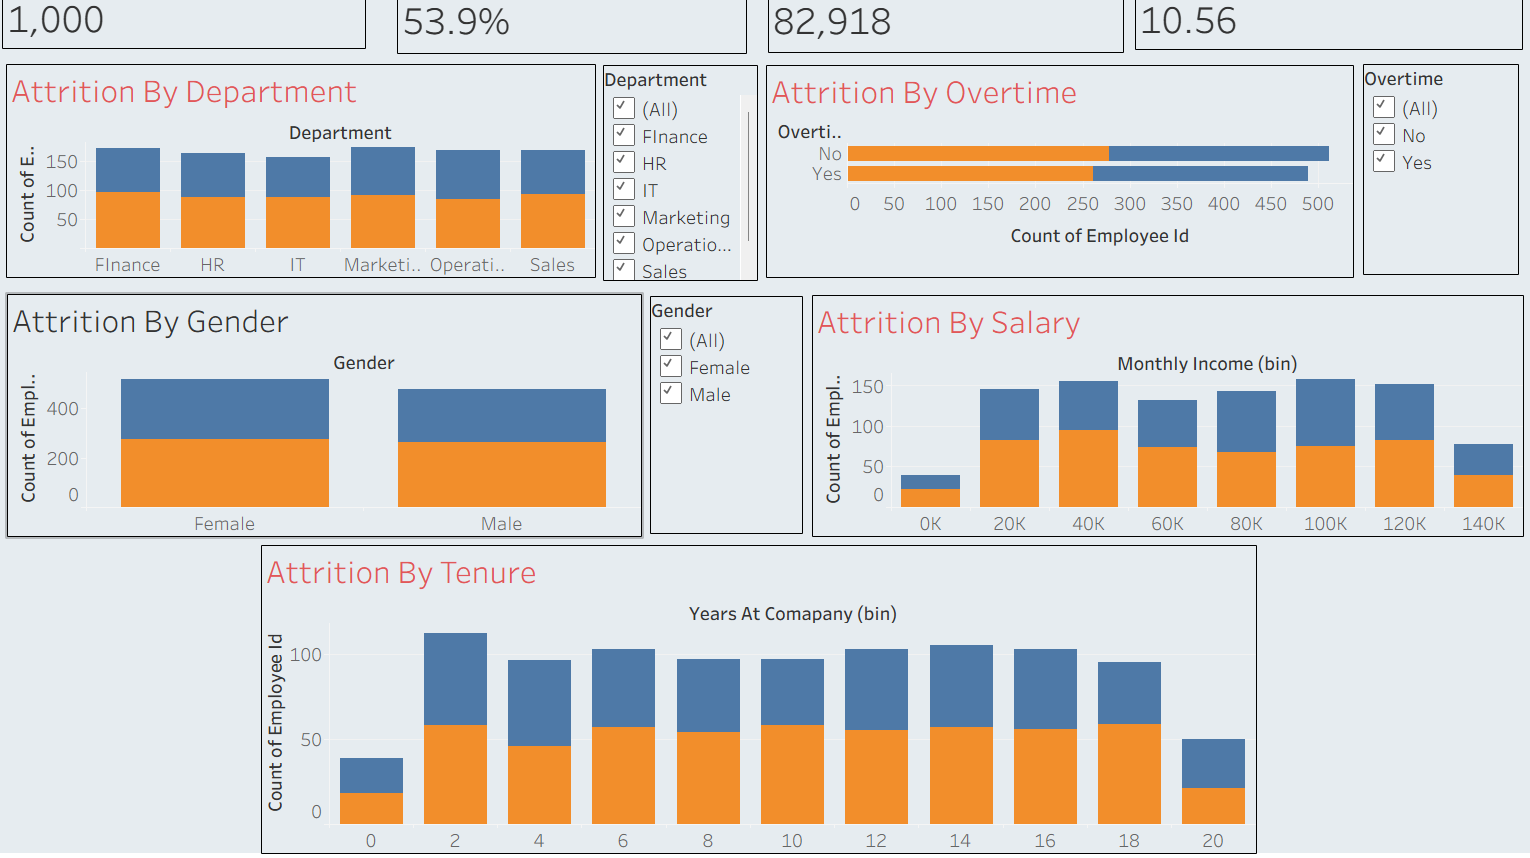

Layout of this report page (visuals, bound fields, positions):
{"tool":"tableau","page":{"name":"Dashboard 1","canvas":[1550,1000],"ordinal":0},"visuals":[{"type":"title","box":[8,8,1534,63]},{"type":"worksheet","title":"KPI-AttritionRate","mark":"Automatic","box":[408,73,350,119]},{"type":"worksheet","title":"KPI-Avg Salary","mark":"Automatic","box":[779,73,356,118]},{"type":"worksheet","title":"KPI-Average Tenure","mark":"Automatic","box":[1146,73,388,115]},{"type":"worksheet","title":"KPI-TotalEmployees","mark":"Automatic","box":[13,75,364,112]},{"type":"worksheet","title":"Attrition By Department","mark":"Automatic","rows":["EmployeeId"],"cols":["Department"],"box":[17,202,590,214]},{"type":"filter","title":"Attrition By Overtime","param":"[federated.0w9xlzc16nciri171w3ah05ty60h].[none:overtime:nk]","box":[1374,202,156,211]},{"type":"filter","title":"Attrition By Department","param":"[federated.0w9xlzc16nciri171w3ah05ty60h].[none:Department:nk]","box":[614,203,155,216]},{"type":"worksheet","title":"Attrition By Overtime","mark":"Automatic","rows":["overtime"],"cols":["EmployeeId"],"box":[777,203,588,213]},{"type":"worksheet","title":"Attrition By Gender","mark":"Automatic","rows":["EmployeeId"],"cols":["Gender"],"box":[18,432,635,243]},{"type":"worksheet","title":"Attrition By Salary","mark":"Automatic","rows":["EmployeeId"],"cols":["Monthly Income (bin)"],"box":[823,433,712,242]},{"type":"filter","title":"Attrition By Gender","param":"[federated.0w9xlzc16nciri171w3ah05ty60h].[none:Gender:nk]","box":[661,434,153,238]},{"type":"worksheet","title":"Attrition By Tenure","mark":"Automatic","rows":["EmployeeId"],"cols":["Years At Comapany (bin)"],"box":[272,683,996,309]}]}

Visuals, with their boxes on the page's 1550x1000 design canvas (x1, y1, x2, y2). These are canvas units, not pixel positions in the 1530x858 screenshot, which may show the page scaled, cropped or inside an application window:
title: x1=8 y1=8 x2=1542 y2=71
"KPI-AttritionRate" worksheet: x1=408 y1=73 x2=758 y2=192
"KPI-Avg Salary" worksheet: x1=779 y1=73 x2=1135 y2=191
"KPI-Average Tenure" worksheet: x1=1146 y1=73 x2=1534 y2=188
"KPI-TotalEmployees" worksheet: x1=13 y1=75 x2=377 y2=187
"Attrition By Department" worksheet: x1=17 y1=202 x2=607 y2=416
"Attrition By Overtime" filter: x1=1374 y1=202 x2=1530 y2=413
"Attrition By Department" filter: x1=614 y1=203 x2=769 y2=419
"Attrition By Overtime" worksheet: x1=777 y1=203 x2=1365 y2=416
"Attrition By Gender" worksheet: x1=18 y1=432 x2=653 y2=675
"Attrition By Salary" worksheet: x1=823 y1=433 x2=1535 y2=675
"Attrition By Gender" filter: x1=661 y1=434 x2=814 y2=672
"Attrition By Tenure" worksheet: x1=272 y1=683 x2=1268 y2=992
